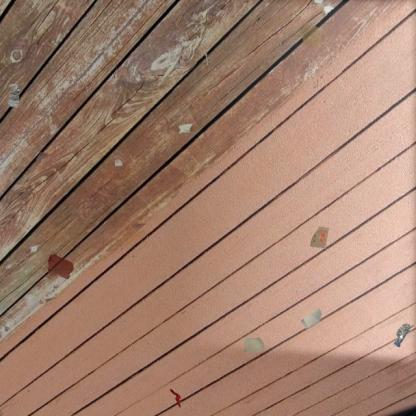dirty: (299, 306, 324, 332), (308, 224, 332, 251), (392, 322, 415, 348), (240, 336, 266, 354), (7, 83, 22, 108), (168, 388, 184, 408)
liquid: (299, 21, 330, 52), (46, 252, 75, 280)
